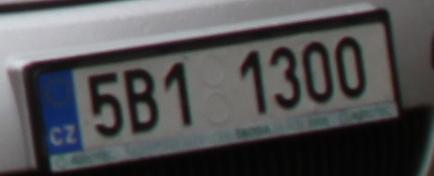0: (303, 40, 334, 107), (337, 37, 367, 97)
1: (164, 58, 195, 129), (240, 47, 270, 119)
3: (269, 46, 301, 111)
5: (86, 71, 122, 138)
B: (125, 65, 161, 134)
